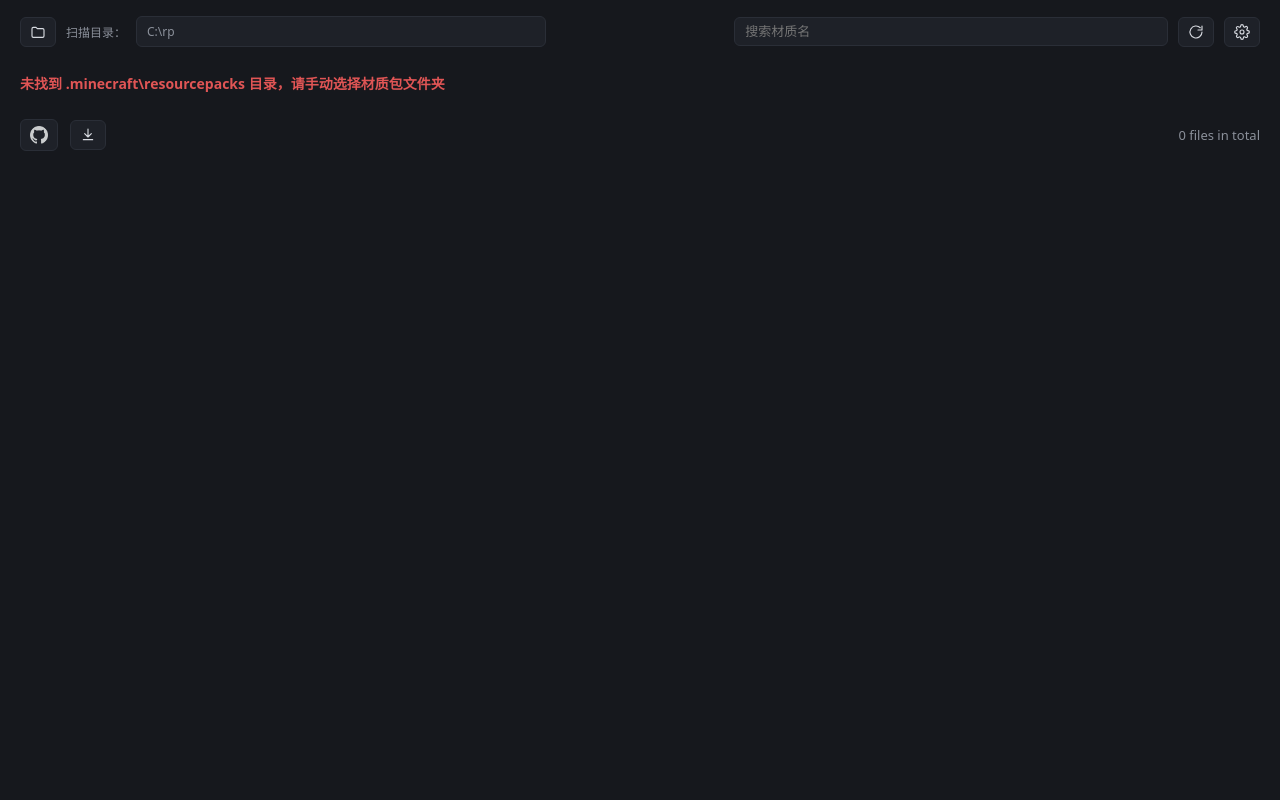
Scenario: missing default directory shows red notice, browse rescans the picked folder
Check: the text "未找到 .minecraft\\resourcepacks 目录，请手动选择材质包文件夹" is shown, box [20, 74, 445, 93]
Step 1. Click the button named "浏览文件夹" → (38, 32), box [20, 16, 56, 46]
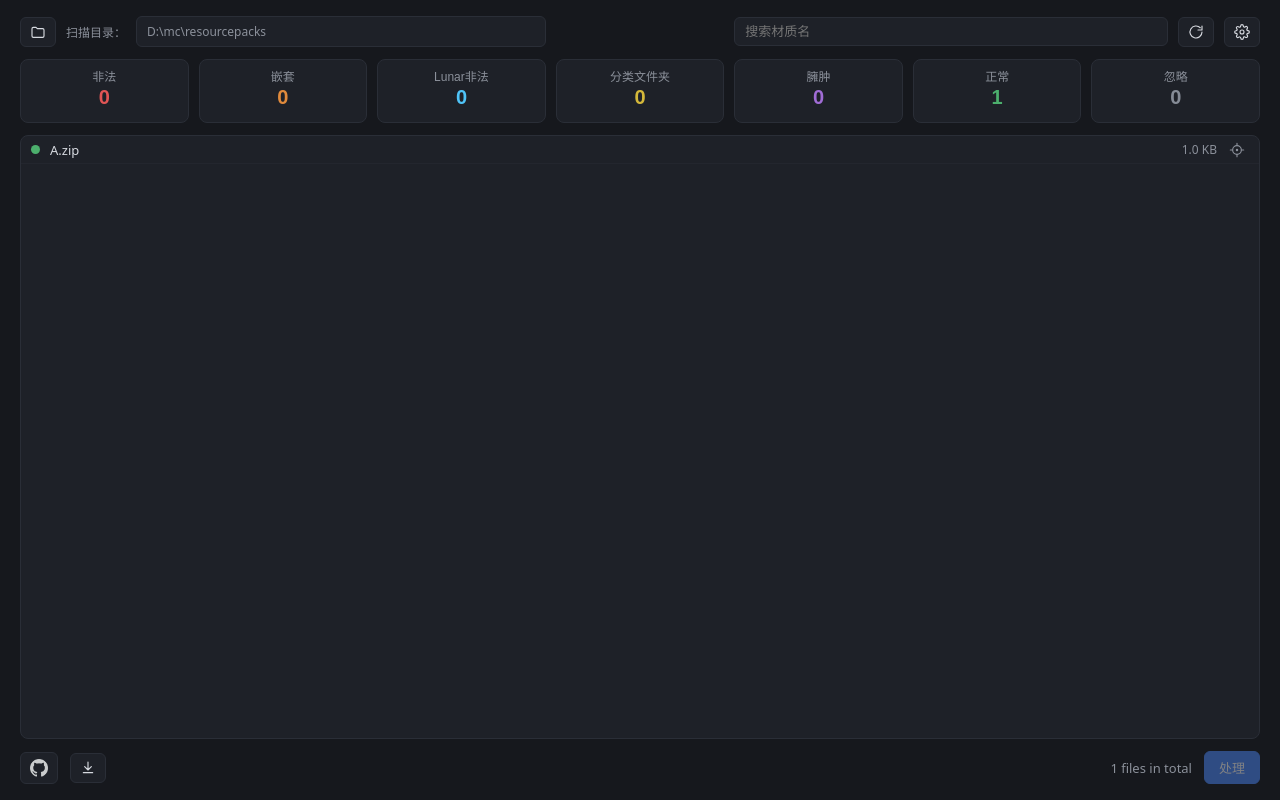
Check: the text "A.zip" is shown, box [50, 140, 79, 158]
